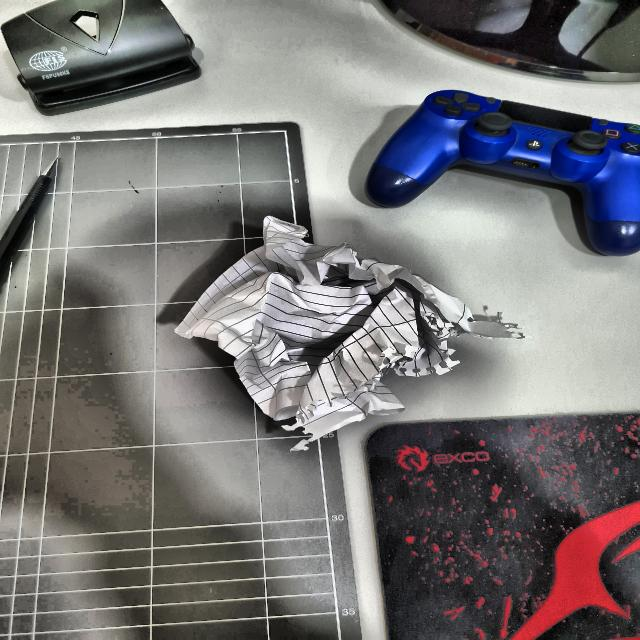Paper: (176, 212, 513, 436)
